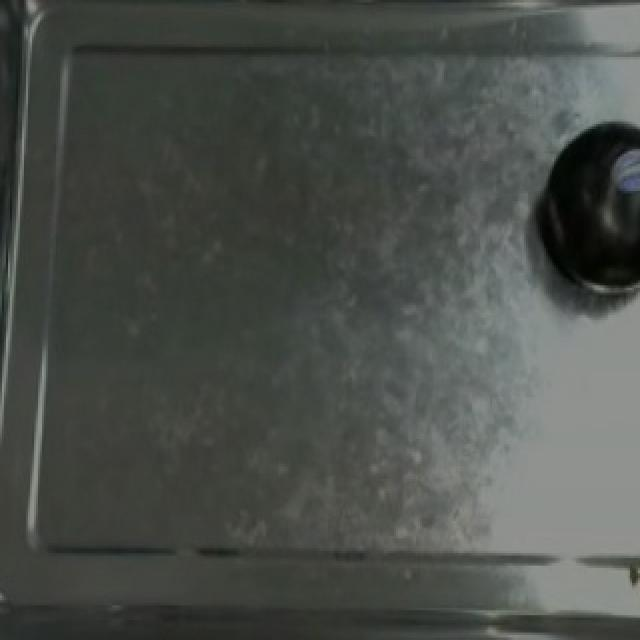Fruit: (526, 107, 640, 310)
